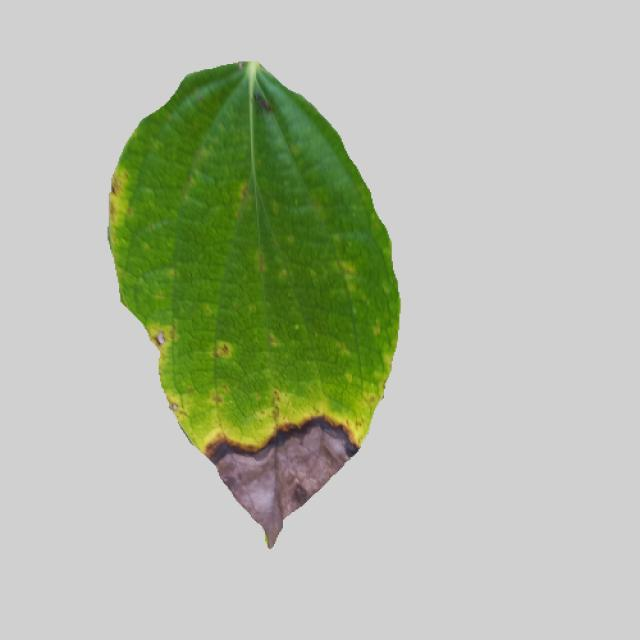leaf-blight: (47, 63, 420, 554)
